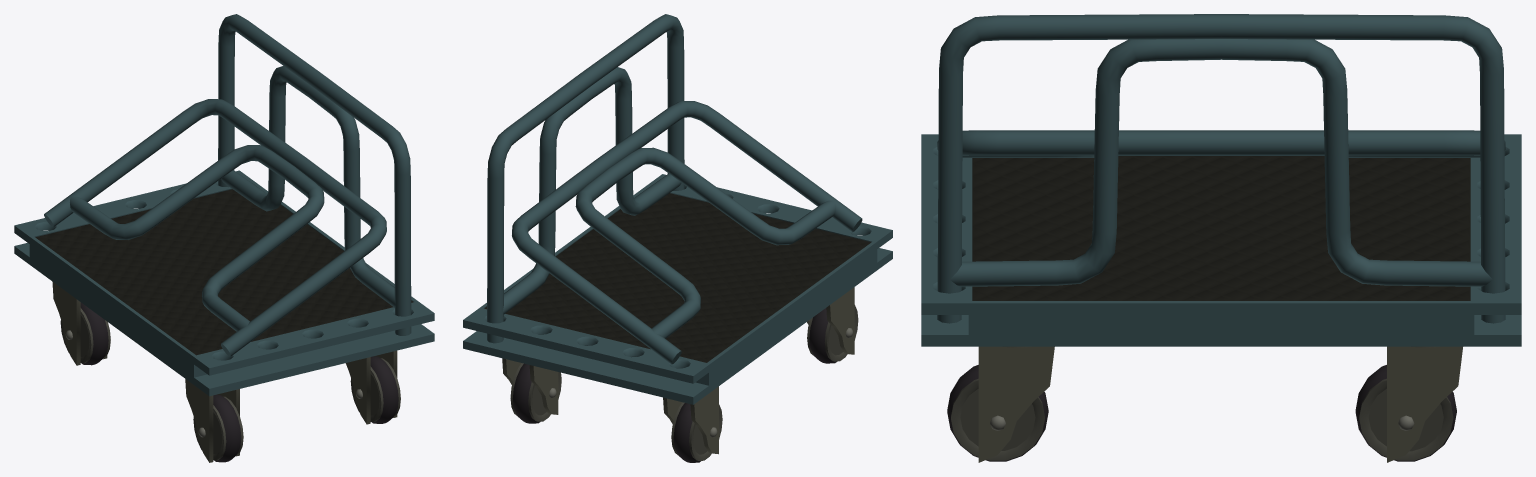
The model's file is EM_135_dolly_cart_barriers.glb.
The picture shows the model from 3 angles, left to right: view 1: azimuth 30°, elevation 25°; view 2: azimuth 150°, elevation 25°; view 3: azimuth 270°, elevation 25°; orthographic projection. The views are drawn at different scales.
Parts seen in each view (by area): view 1: surface, dolly_cart, barrier_tilted, barrier, wheels; view 2: surface, dolly_cart, barrier_tilted, barrier, wheels; view 3: surface, barrier, dolly_cart, wheels, barrier_tilted.
Part boxes in pixels (box(x1,y1,x2,y2)): surface: box(35, 189, 413, 355); dolly_cart: box(14, 170, 434, 396); barrier_tilted: box(44, 99, 386, 356); barrier: box(218, 14, 411, 335); wheels: box(52, 281, 400, 462); surface: box(485, 193, 870, 362); dolly_cart: box(463, 174, 892, 404); barrier_tilted: box(512, 101, 862, 364); barrier: box(487, 14, 684, 343); wheels: box(502, 287, 858, 462); surface: box(972, 156, 1470, 300); barrier: box(937, 14, 1505, 323); dolly_cart: box(921, 134, 1521, 346); wheels: box(947, 346, 1462, 462); barrier_tilted: box(937, 130, 1505, 157).
Size of the model in its own units: 1.5 by 1.87 by 2.25.
